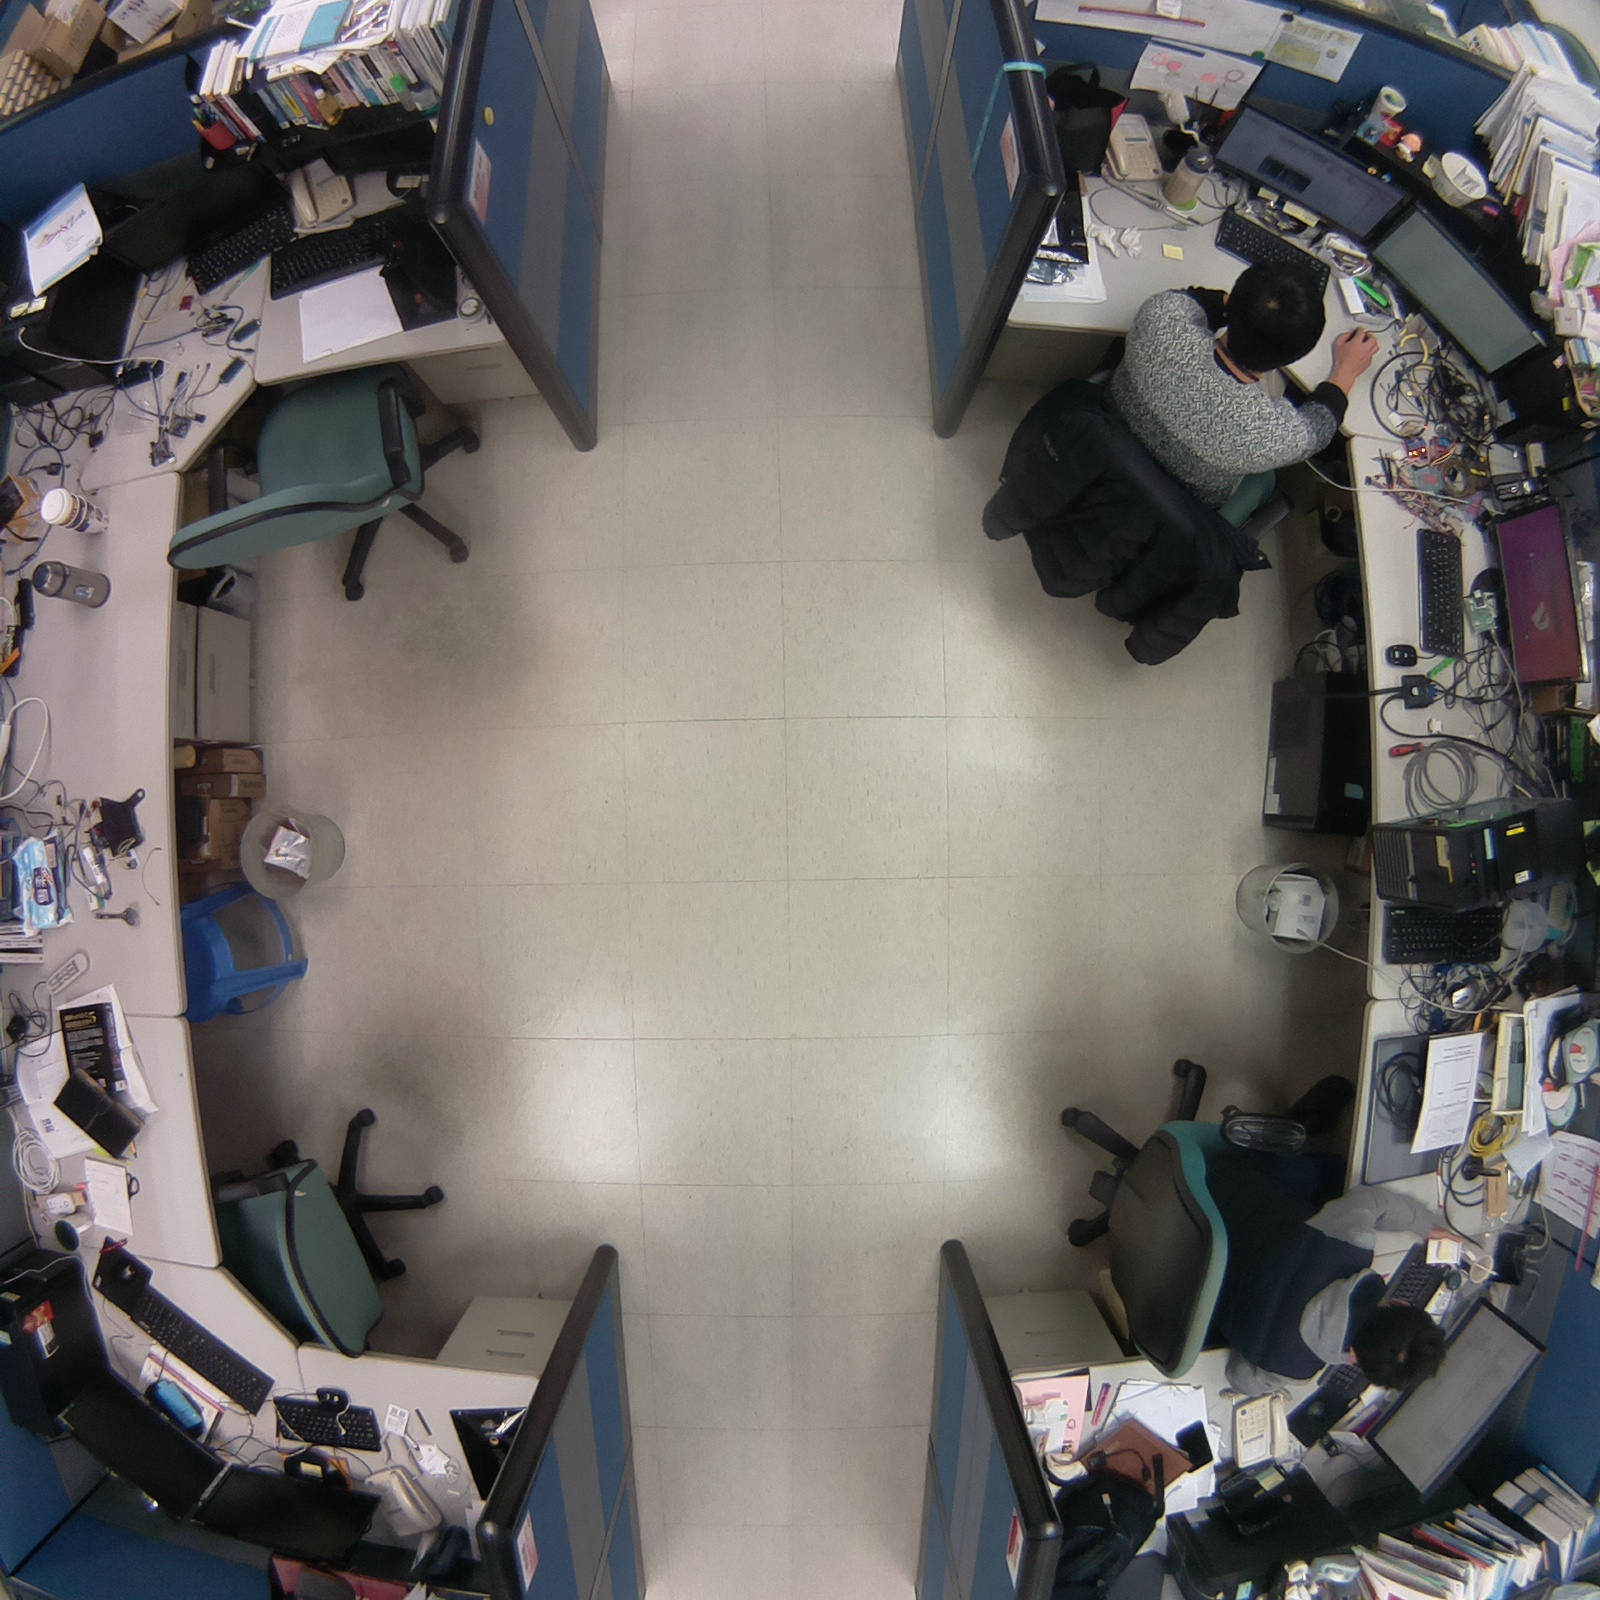chair: (135, 332, 506, 629), (204, 1086, 473, 1378)
head: (1219, 259, 1332, 374), (1342, 1291, 1457, 1400)
sitting: (963, 261, 1393, 688), (1017, 1047, 1466, 1414)
